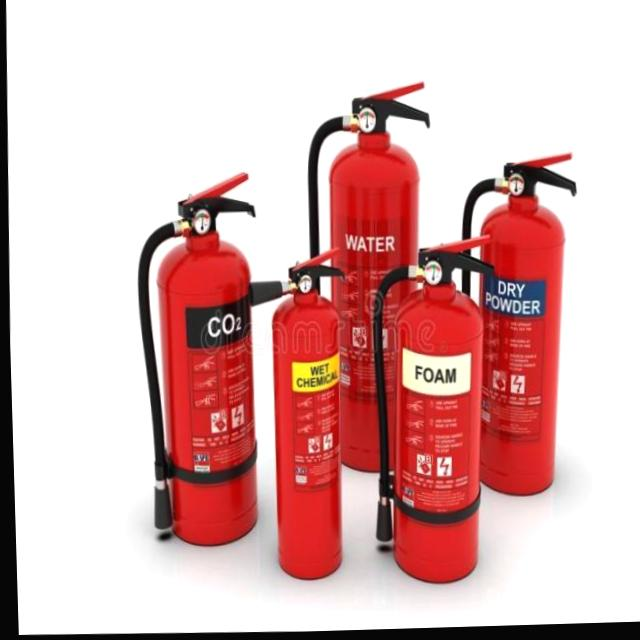FireExtinguisher: (296, 74, 443, 478), (122, 163, 268, 556), (360, 231, 503, 595), (443, 146, 583, 503), (228, 237, 355, 585)
